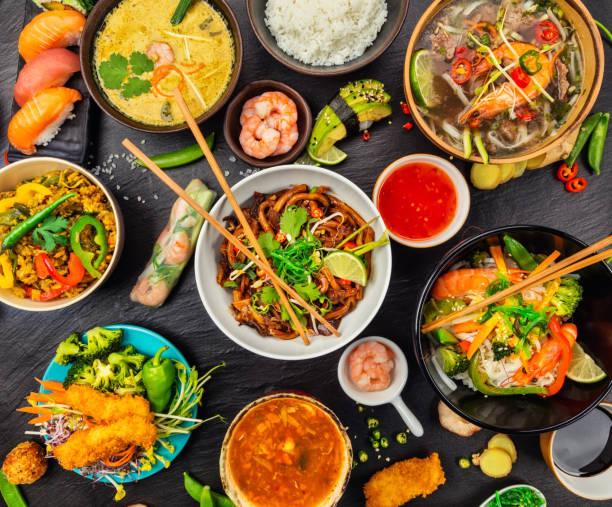Braised Crucian Carp: (414, 227, 609, 435), (194, 165, 388, 360), (402, 2, 599, 173), (36, 324, 195, 487), (76, 1, 238, 137), (2, 157, 124, 311), (218, 392, 354, 506), (4, 2, 96, 169)
